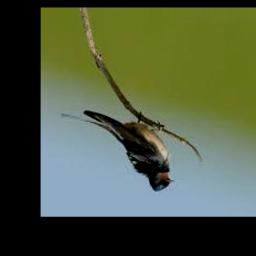Swallow: (61, 110, 173, 191)
